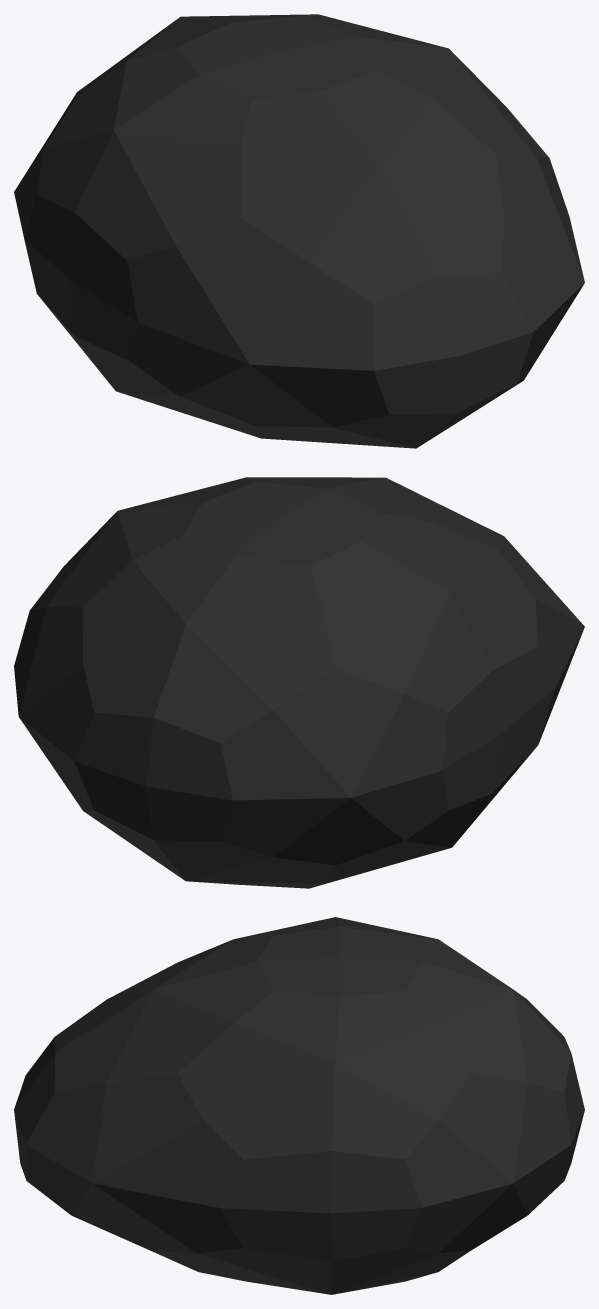
Rendered from Boulder 1.fbx.
3 renders of one model, top to bottom at view 1: azimuth 30°, elevation 25°; view 2: azimuth 150°, elevation 25°; view 3: azimuth 270°, elevation 25°, orthographic. The views are drawn at different scales.
Visible parts, largest first — view 1: Boulder 1; view 2: Boulder 1; view 3: Boulder 1.
Part boxes in pixels (<box>): Boulder 1: <box>14,14,584,448</box>; Boulder 1: <box>14,477,584,888</box>; Boulder 1: <box>14,917,584,1294</box>.
Size of the model in its own units: 23.59 by 17.28 by 28.91.
Materials: 1 (1 with a texture image).
